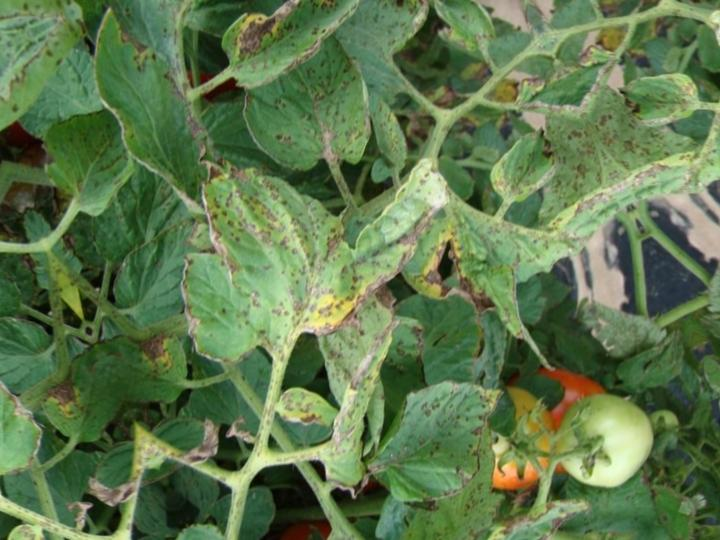Tomato leaf bacterial spot: (125, 92, 488, 423), (63, 0, 244, 232), (421, 141, 643, 328), (210, 6, 407, 214), (328, 344, 541, 529), (199, 0, 393, 114), (478, 122, 578, 217)
